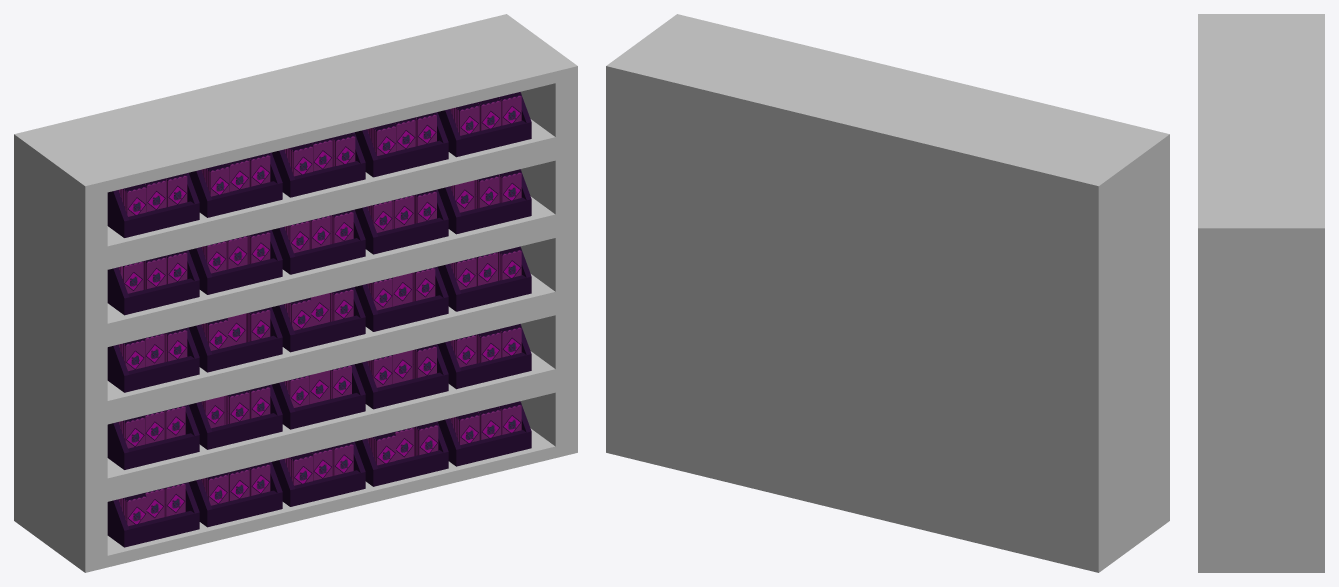
File: Evelmart_Shelf_Dark.fbx
3 views of the same model, side by side, from view 1: azimuth 30°, elevation 25°; view 2: azimuth 150°, elevation 25°; view 3: azimuth 270°, elevation 25° (orthographic). The views are drawn at different scales.
Visible parts, largest first — view 1: Long Bookshelf, Cube.002, Cube.003, Cube.001, Cube.004, Cube.005, Dark.004, Dark, Dark.002, Dark.003, Dark.001; view 2: Long Bookshelf; view 3: Long Bookshelf.
Part boxes in pixels (x1,y1,x2,y2): Long Bookshelf: (14,14,577,572); Cube.002: (107,324,531,469); Cube.003: (107,246,531,392); Cube.001: (107,401,531,547); Cube.004: (107,169,531,315); Cube.005: (107,92,531,237); Dark.004: (118,92,521,216); Dark: (118,401,521,526); Dark.002: (118,246,521,371); Dark.003: (118,169,521,293); Dark.001: (118,324,521,448); Long Bookshelf: (606,14,1169,572); Long Bookshelf: (1198,14,1324,572).
Size of the model in its own units: 805 by 604 by 201.
